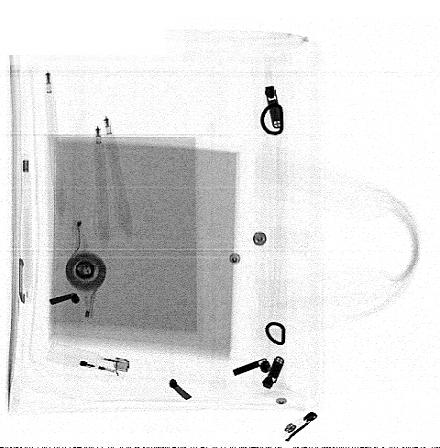Lighter: (45, 343, 130, 380)
